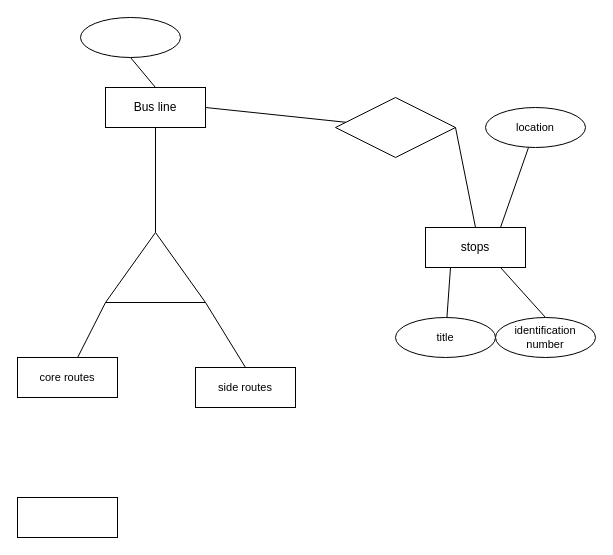
Image size: 613x555. Some labels were removed from this diagram. Each missing label, with the centre of its shape:
"Bus" goes at pixel 67 517.
"ISA" goes at pixel 155 267.
"number" goes at pixel 130 37.
"Stop" goes at pixel 395 127.
